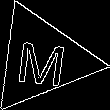M_N: (14, 31, 69, 87)
